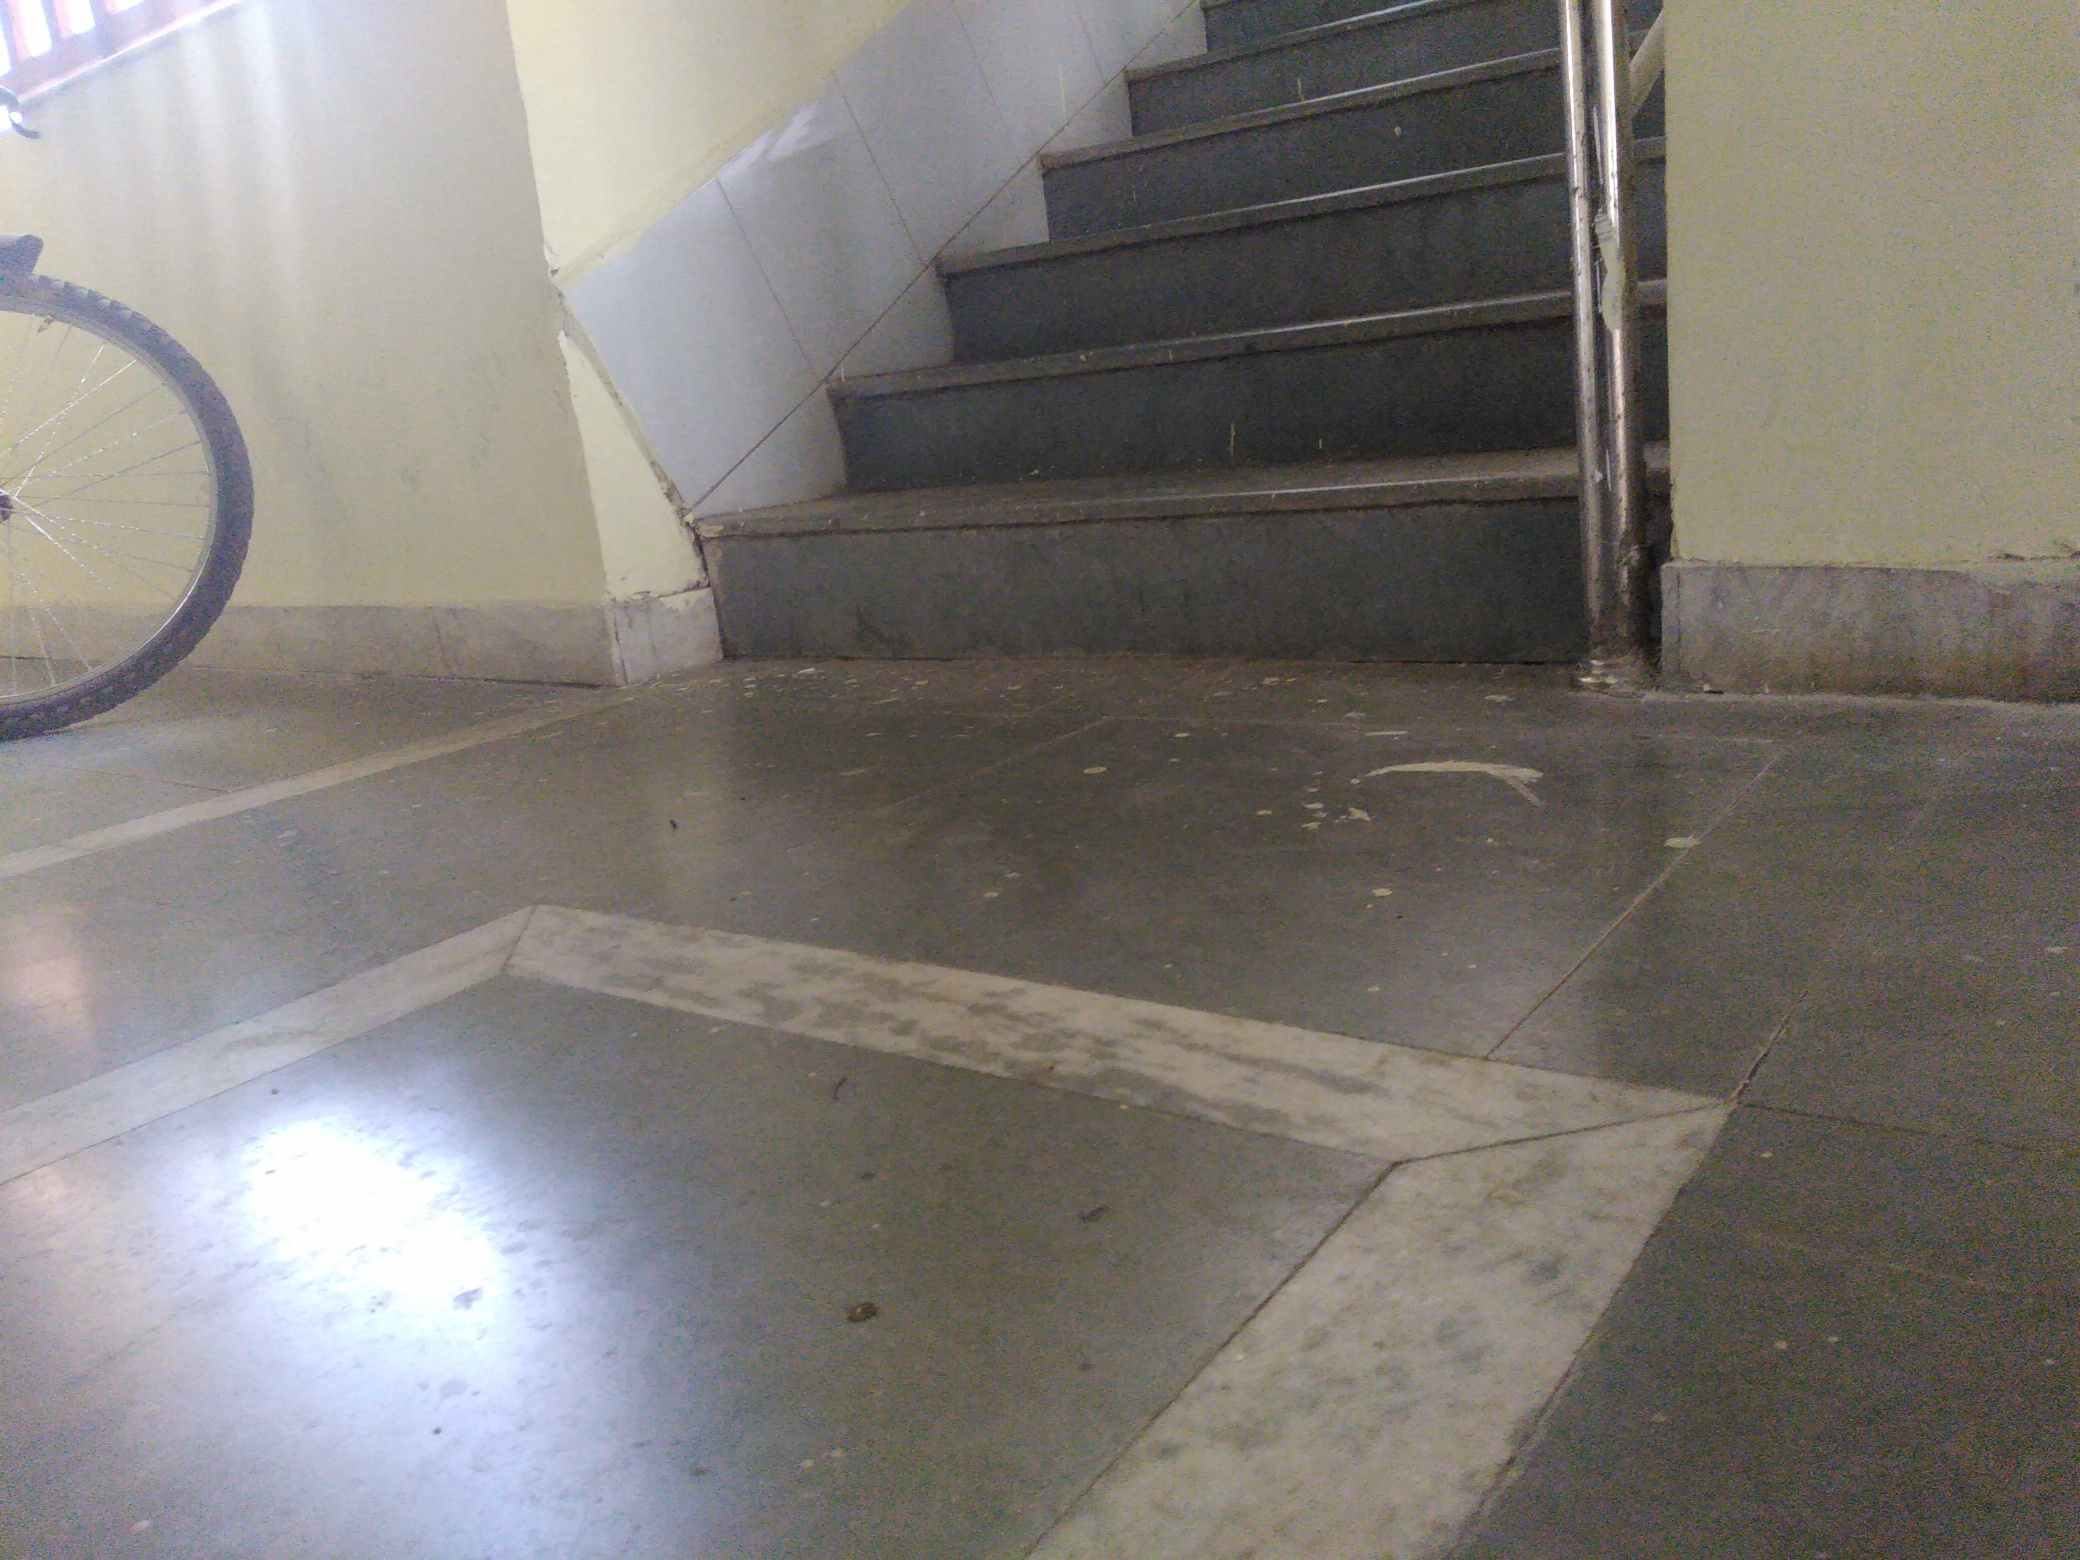stairs_up: (639, 7, 1641, 714)
